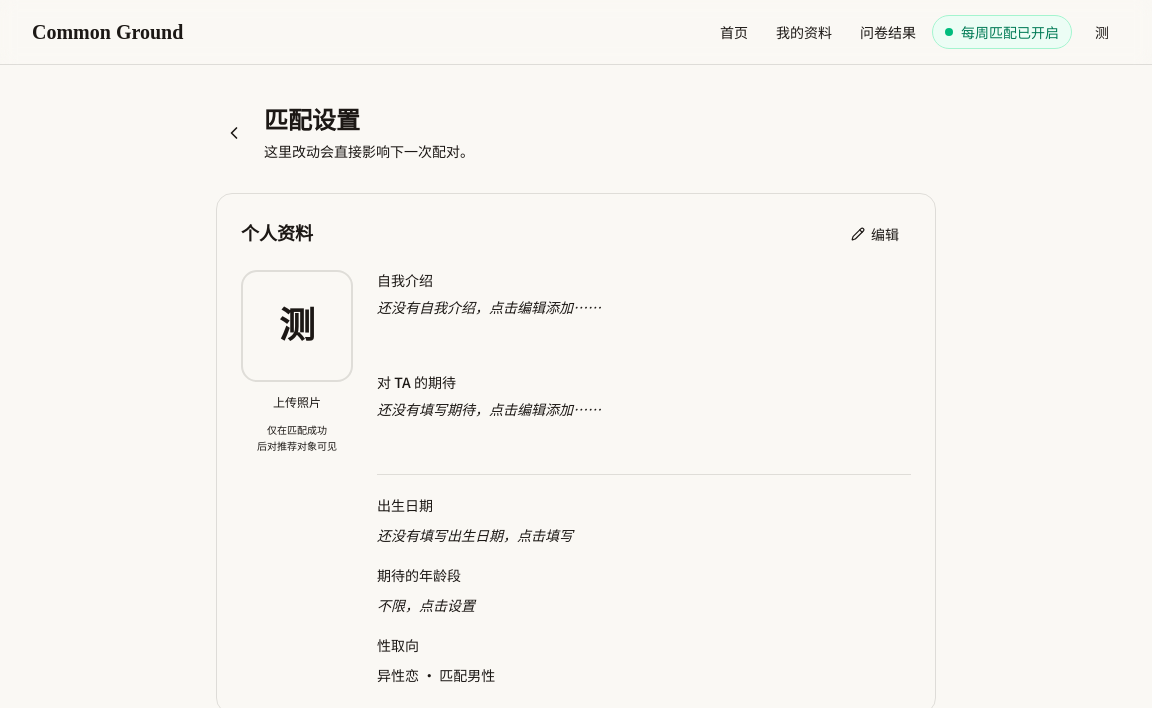
Test: profile fields are reachable › says the change applies at the next pairing, not this week
Check: the heading "匹配设置" is shown, box [264,108,360,134]
Step 1. Click the button "不限，点击设置" → {"x": 426, "y": 605}, box [369,591,903,619]
(page scrolled)
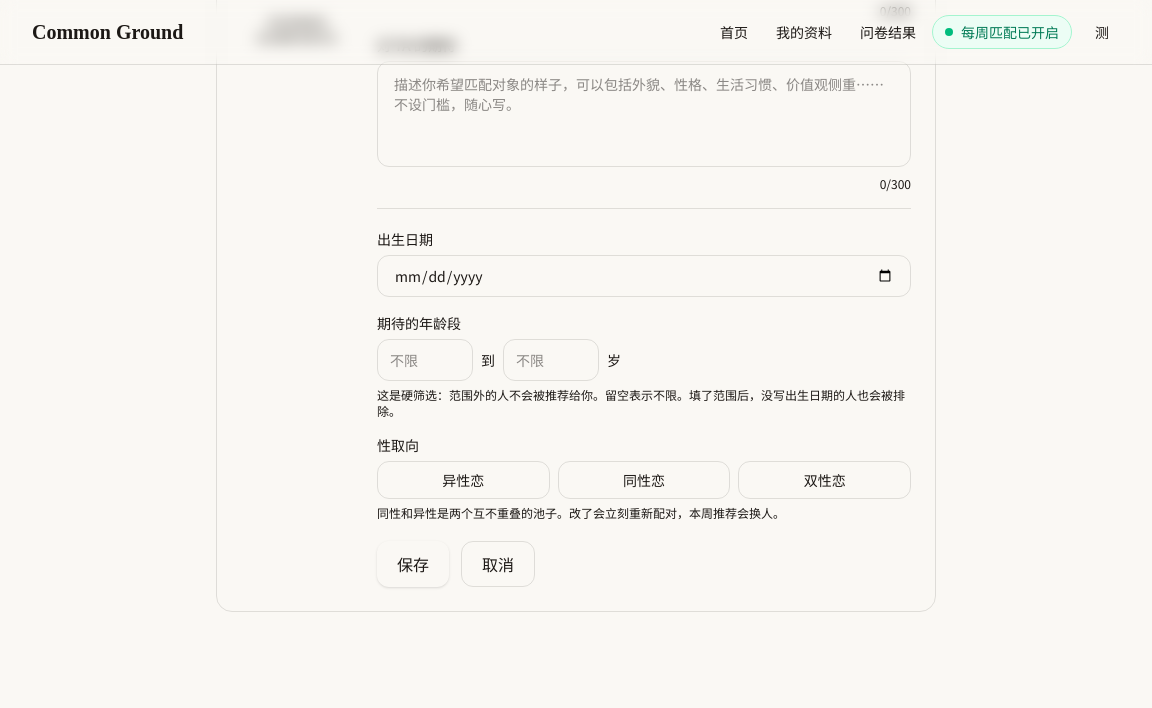
Step 2. Type "30" into the 1st number field with placeholder "不限" → {"x": 425, "y": 360}, box [377,339,473,381]
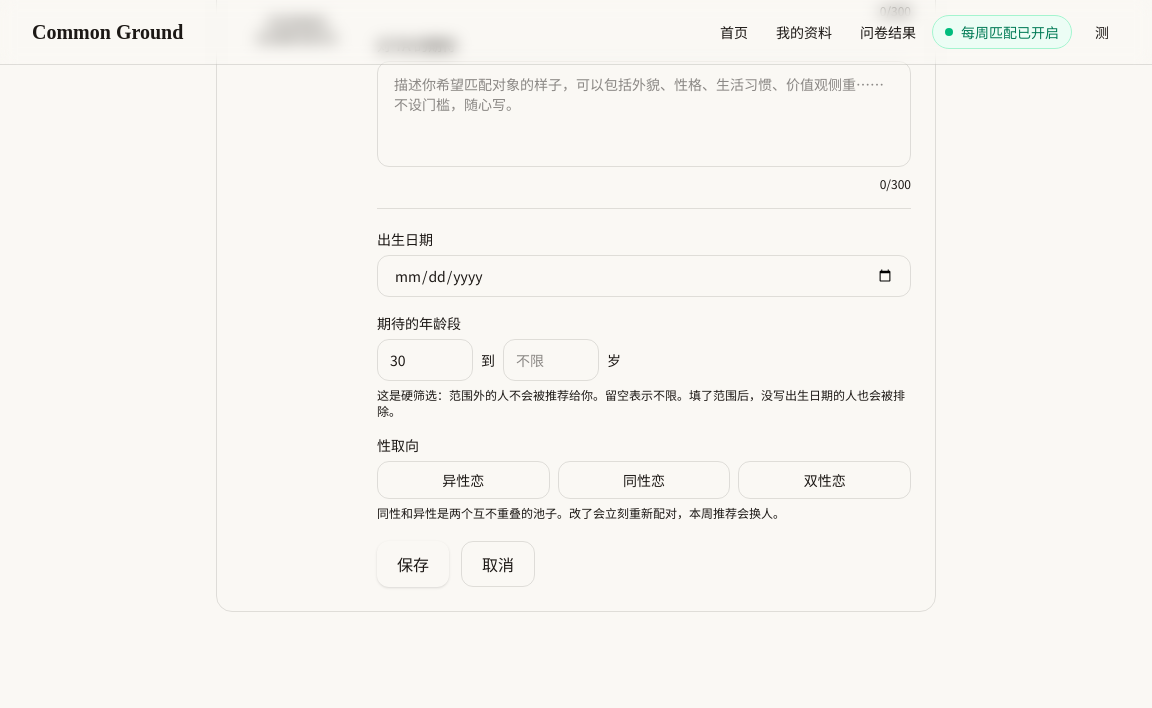
Step 3. Type "35" into the number field with placeholder "不限" → {"x": 551, "y": 360}, box [503,339,599,381]
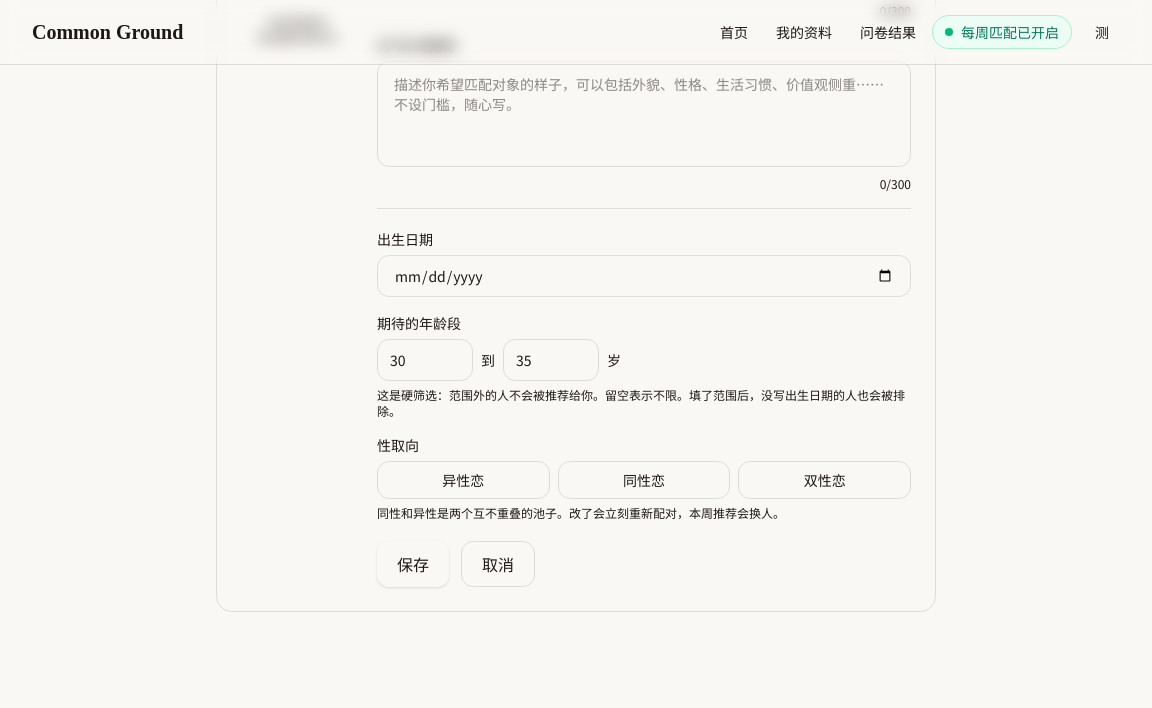
Step 4. Click the button "保存" → {"x": 413, "y": 564}, box [377,541,449,587]
(page scrolled)
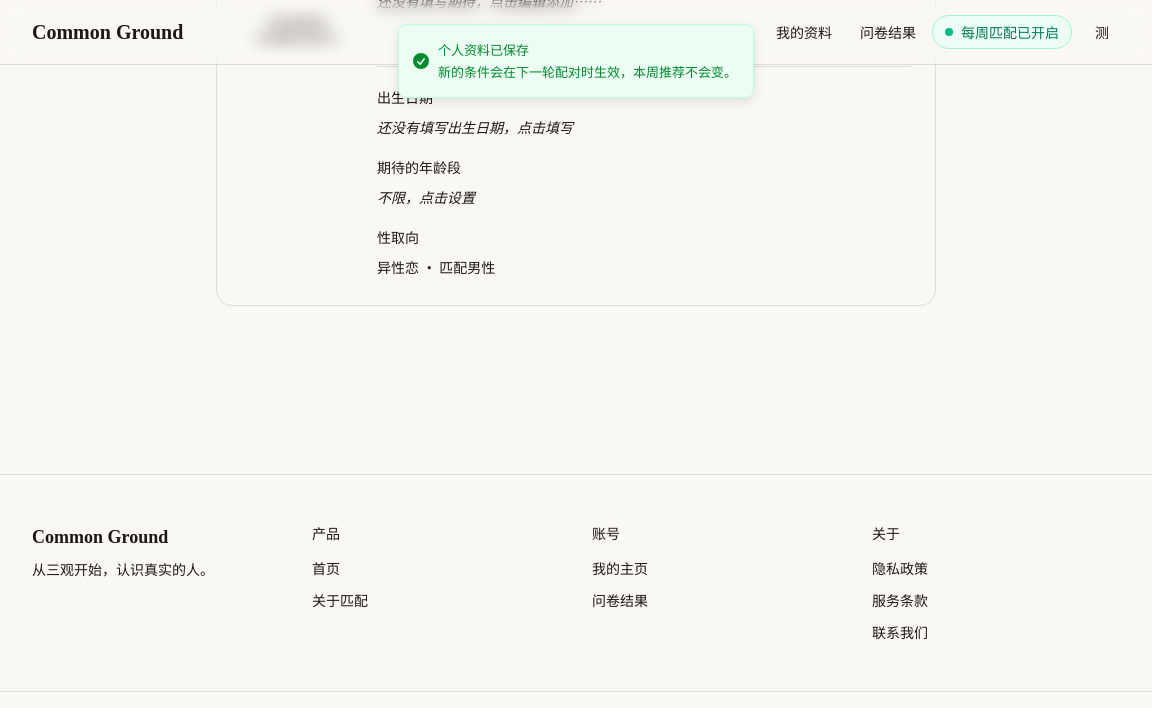
Check: the text "新的条件会在下一轮配对时生效，本周推荐不会变。" is shown, box [438,62,737,81]
